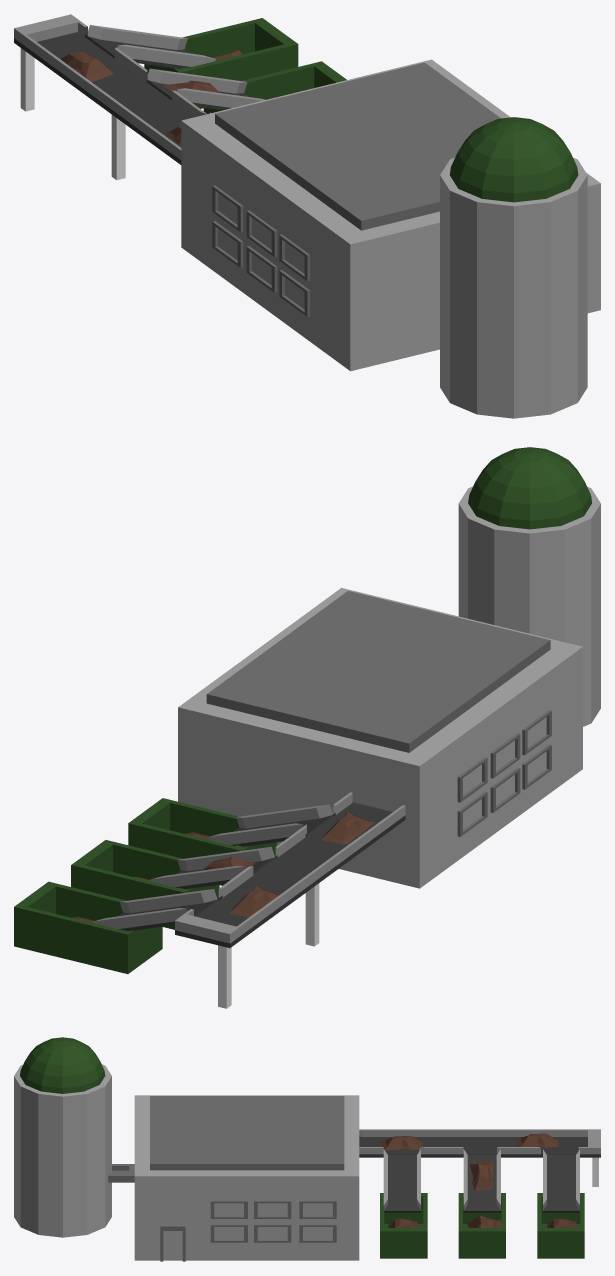
Rendered from wastesorter.fbx.
The picture shows the model from 3 angles, top to bottom: view 1: azimuth 30°, elevation 25°; view 2: azimuth 150°, elevation 25°; view 3: azimuth 270°, elevation 25°; orthographic projection. The views are drawn at different scales.
Parts seen in each view (by area): view 1: Cube, Cylinder, Cube.004, Plane.001, Sphere, Plane.003, Plane.006, Plane.004, Plane.002, Cube.002, Cube.001, Plane.024 (+6 smaller); view 2: Cube, Cube.004, Cylinder, Plane.001, Plane.003, Sphere, Plane.002, Plane, Plane.005, Plane.006, Plane.004, Plane.023 (+3 smaller); view 3: Cube, Cube.004, Cylinder, Plane.001, Sphere, Plane.005, Plane, Plane.003, Plane.006, Plane.002, Plane.004, Plane.025 (+11 smaller).
Part boxes in pixels (left/top/right/bottom): Cube: left=181, top=59, right=600, bottom=371; Cylinder: left=440, top=157, right=587, bottom=418; Cube.004: left=215, top=62, right=500, bottom=230; Plane.001: left=14, top=14, right=207, bottom=164; Sphere: left=450, top=117, right=578, bottom=202; Plane.003: left=144, top=18, right=298, bottom=108; Plane.006: left=86, top=25, right=215, bottom=68; Plane.004: left=146, top=68, right=265, bottom=110; Plane.002: left=203, top=61, right=346, bottom=113; Cube.002: left=111, top=114, right=125, bottom=180; Cube.001: left=20, top=48, right=34, bottom=111; Plane.024: left=60, top=51, right=113, bottom=81; Cube: left=178, top=588, right=582, bottom=888; Cube.004: left=206, top=591, right=550, bottom=752; Cylinder: left=458, top=486, right=600, bottom=726; Plane.001: left=175, top=792, right=405, bottom=947; Plane.003: left=14, top=881, right=162, bottom=973; Sphere: left=468, top=447, right=591, bottom=529; Plane.002: left=71, top=840, right=219, bottom=929; Plane: left=128, top=798, right=276, bottom=885; Plane.005: left=208, top=804, right=333, bottom=846; Plane.006: left=93, top=889, right=217, bottom=931; Plane.004: left=150, top=847, right=275, bottom=889; Plane.023: left=321, top=812, right=374, bottom=844; Cube: left=134, top=1095, right=359, bottom=1260; Cube.004: left=150, top=1096, right=344, bottom=1170; Cylinder: left=14, top=1064, right=111, bottom=1237; Plane.001: left=359, top=1129, right=600, bottom=1157; Sphere: left=20, top=1037, right=105, bottom=1093; Plane.005: left=383, top=1149, right=420, bottom=1212; Plane: left=380, top=1193, right=427, bottom=1258; Plane.003: left=537, top=1193, right=584, bottom=1258; Plane.006: left=543, top=1149, right=579, bottom=1212; Plane.002: left=458, top=1193, right=505, bottom=1258; Plane.004: left=463, top=1149, right=500, bottom=1212; Plane.025: left=470, top=1160, right=493, bottom=1190.
Bounding box in the file's own units: 908 × 885 × 2679.
